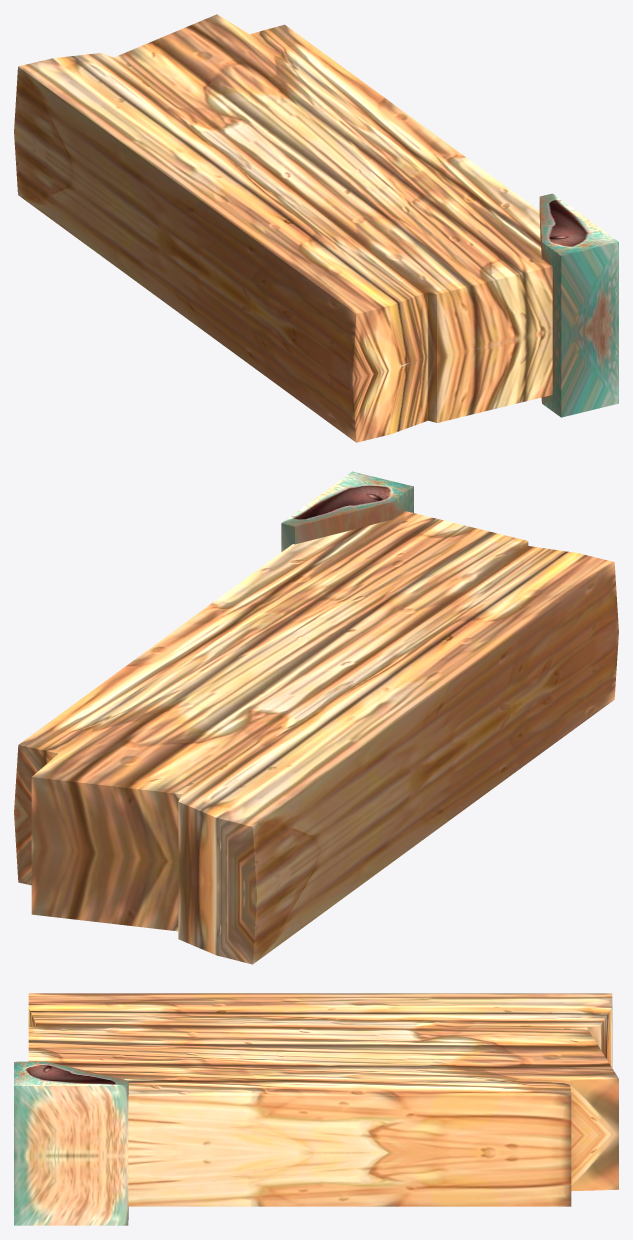
Rendered from 54dfe7ea-df06-4d18-9f84-4abdf01f431a.glb.
3 renders of one model, top to bottom at view 1: azimuth 30°, elevation 25°; view 2: azimuth 150°, elevation 25°; view 3: azimuth 270°, elevation 25°, orthographic. The views are drawn at different scales.
Parts seen in each view (by area): view 1: PlankC-Thick; view 2: PlankC-Thick; view 3: PlankC-Thick.
Boxes of the visible parts, x1,y1,x2,y2 form: PlankC-Thick: (14,14,618,442); PlankC-Thick: (14,471,618,964); PlankC-Thick: (14,993,618,1225).
Size of what is drawn, in the model's own units: 0.9453 by 0.5657 by 2.23.
1 material, 1 textured.
